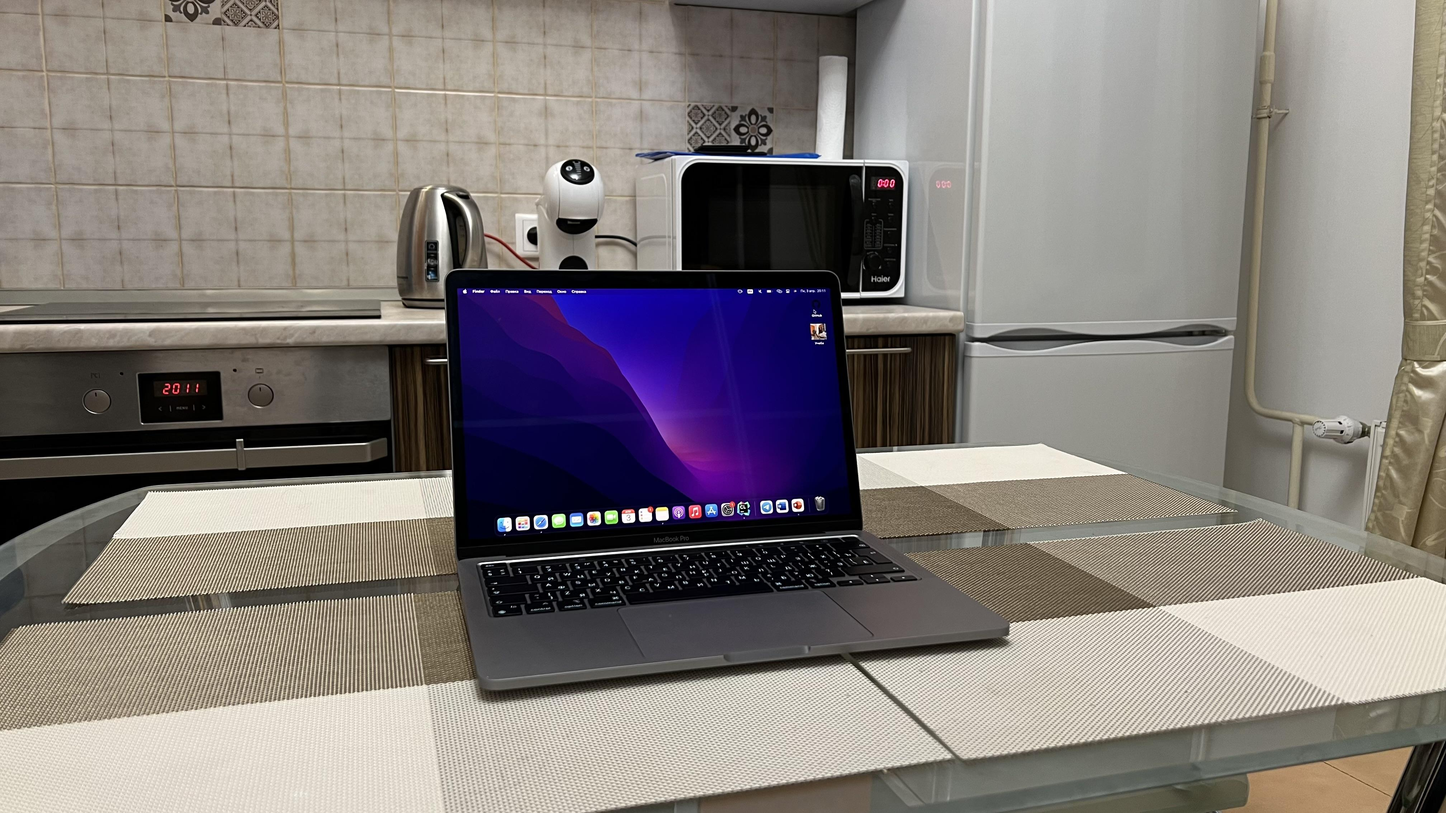monitor: (432, 258, 871, 572)
